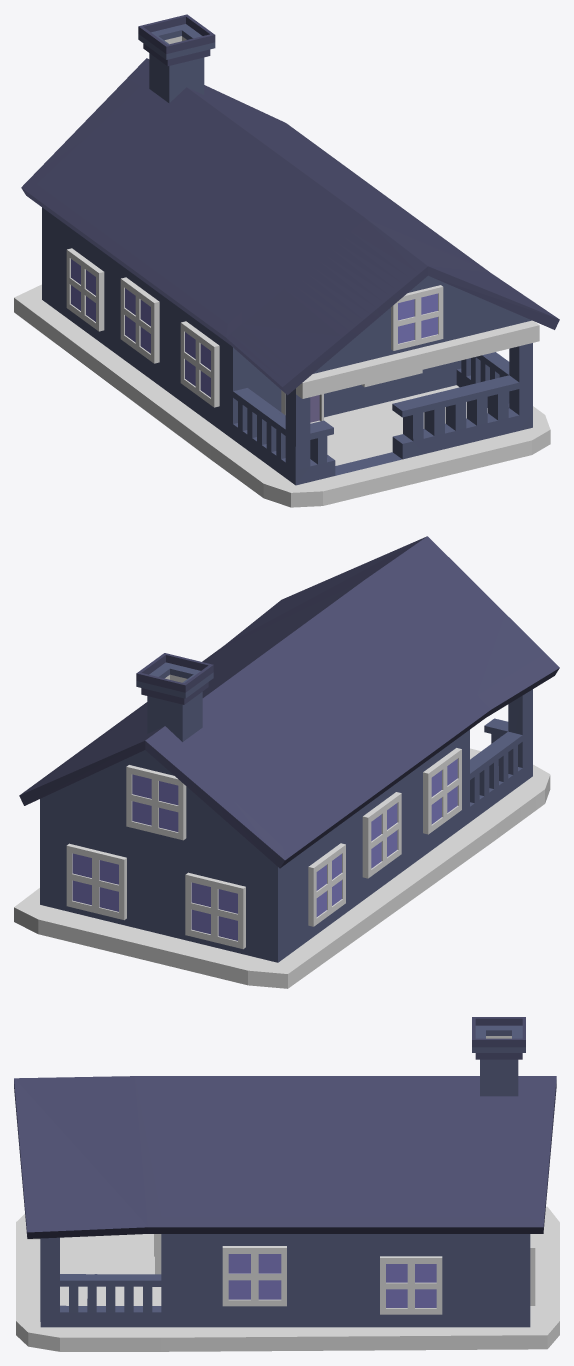
Rendered from FMP_Middle_House_Shaded_2.fbx.
The picture shows the model from 3 angles, top to bottom: view 1: azimuth 30°, elevation 25°; view 2: azimuth 150°, elevation 25°; view 3: azimuth 270°, elevation 25°; orthographic projection. The views are drawn at different scales.
Parts seen in each view (by area): view 1: polySurface59; view 2: polySurface59; view 3: polySurface59.
Part boxes in pixels (bbox=[...]): polySurface59: bbox=[14, 14, 559, 507]; polySurface59: bbox=[14, 536, 559, 988]; polySurface59: bbox=[14, 1017, 559, 1351].
Bounding box in the file's own units: 691 × 625 × 1204.
